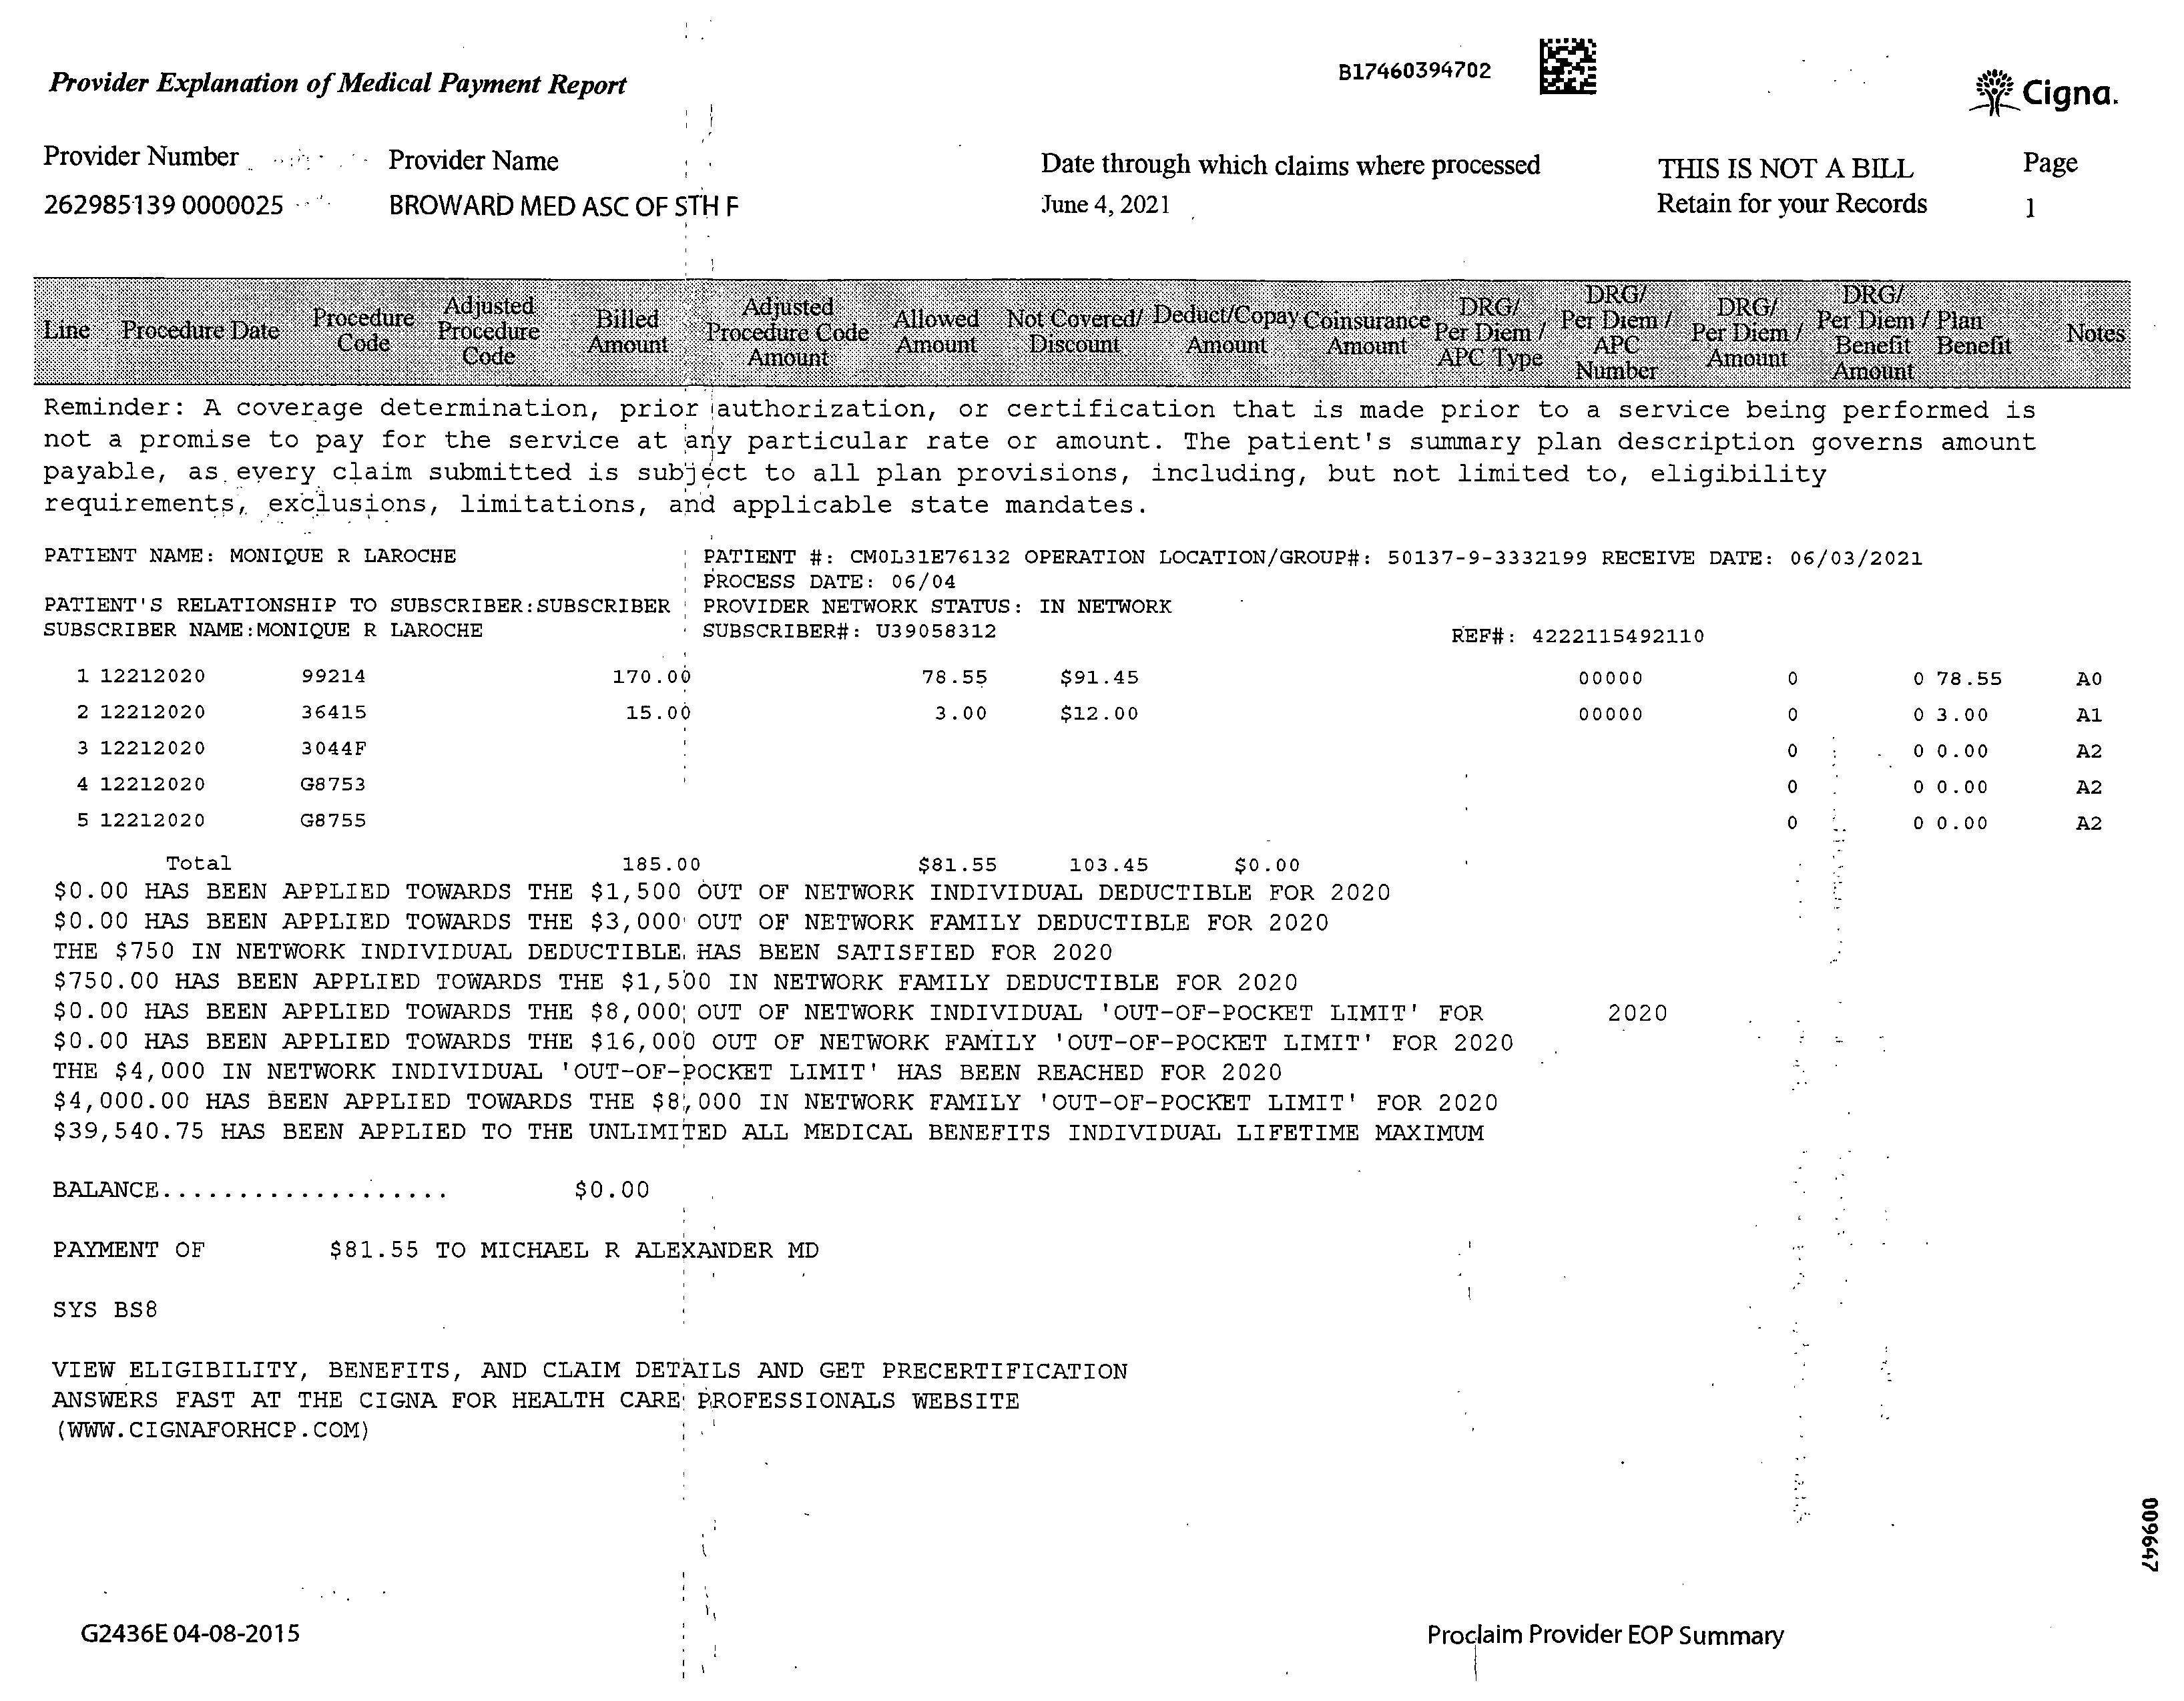data: (23, 117, 753, 234)
